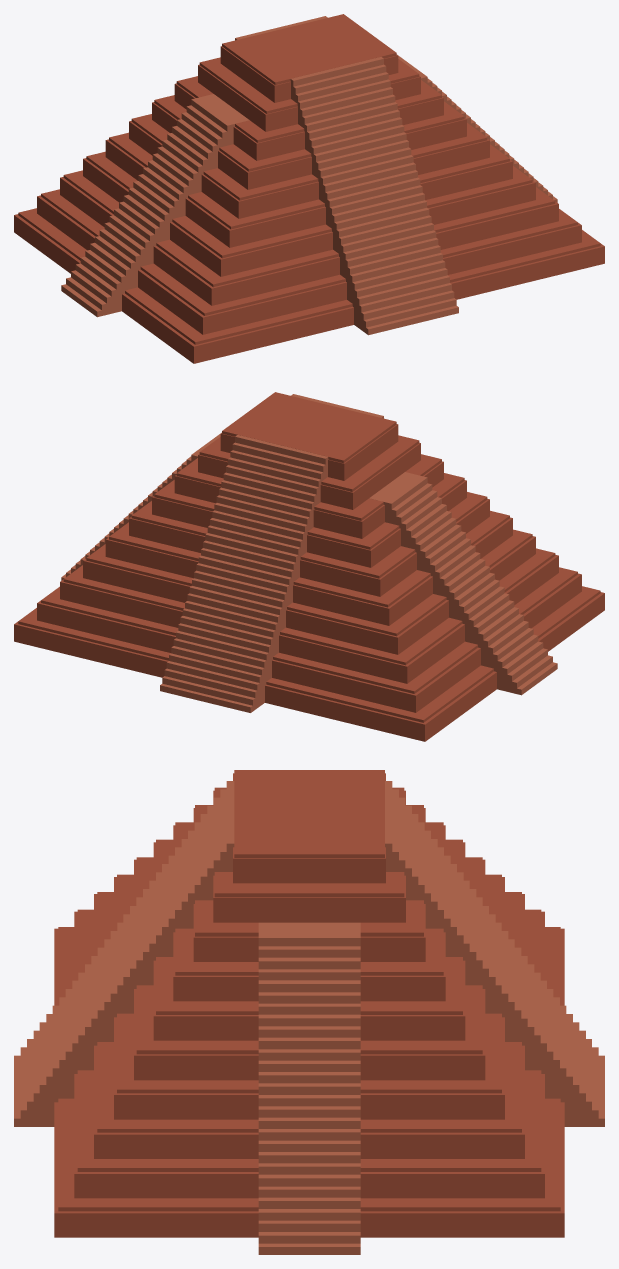
File: meso-tikal-mp.glb
3 renders of one model, top to bottom at view 1: azimuth 30°, elevation 25°; view 2: azimuth 150°, elevation 25°; view 3: azimuth 270°, elevation 25°, orthographic. The views are drawn at different scales.
Parts seen in each view (by area): view 1: meso-body, meso-stair; view 2: meso-body, meso-stair; view 3: meso-body, meso-stair.
Part boxes in pixels (<box>): meso-body: <box>14,14,604,363</box>; meso-stair: <box>61,16,557,335</box>; meso-body: <box>14,392,604,741</box>; meso-stair: <box>61,394,557,712</box>; meso-body: <box>54,770,564,1237</box>; meso-stair: <box>14,781,604,1254</box>.
Size of the model in its own units: 74.8 by 31 by 58.61.
